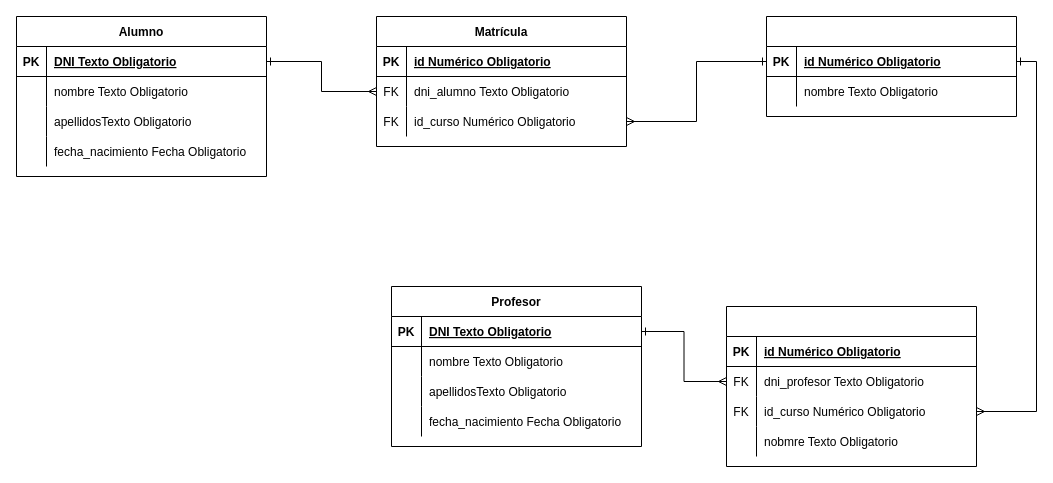
This 1053x483 diagram has some shape labels left out. The box of each missing label's shape, as (x1, y1, x2, y2) in pixels:
Asignatura: (726, 306, 976, 466)
Curso: (766, 16, 1016, 116)
